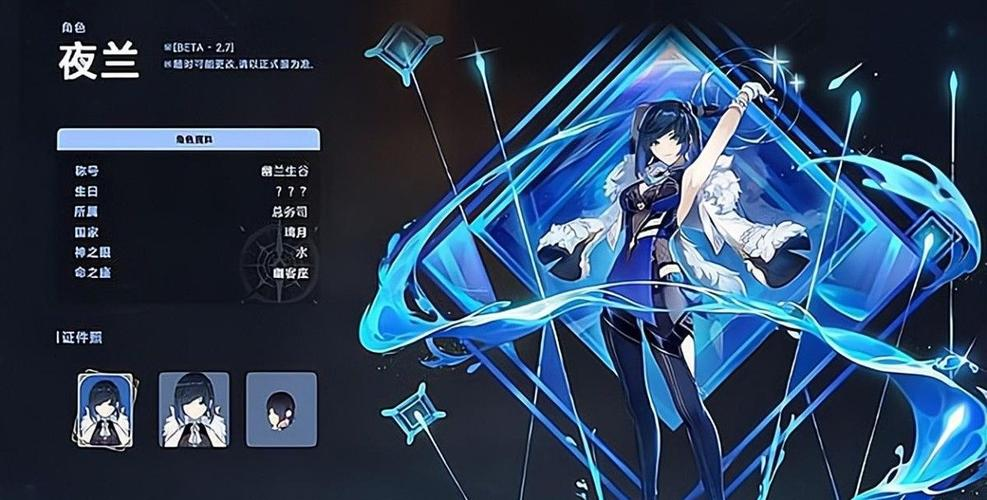夜兰: (599, 63, 781, 498), (158, 371, 227, 447), (76, 374, 134, 444), (264, 387, 300, 442)
